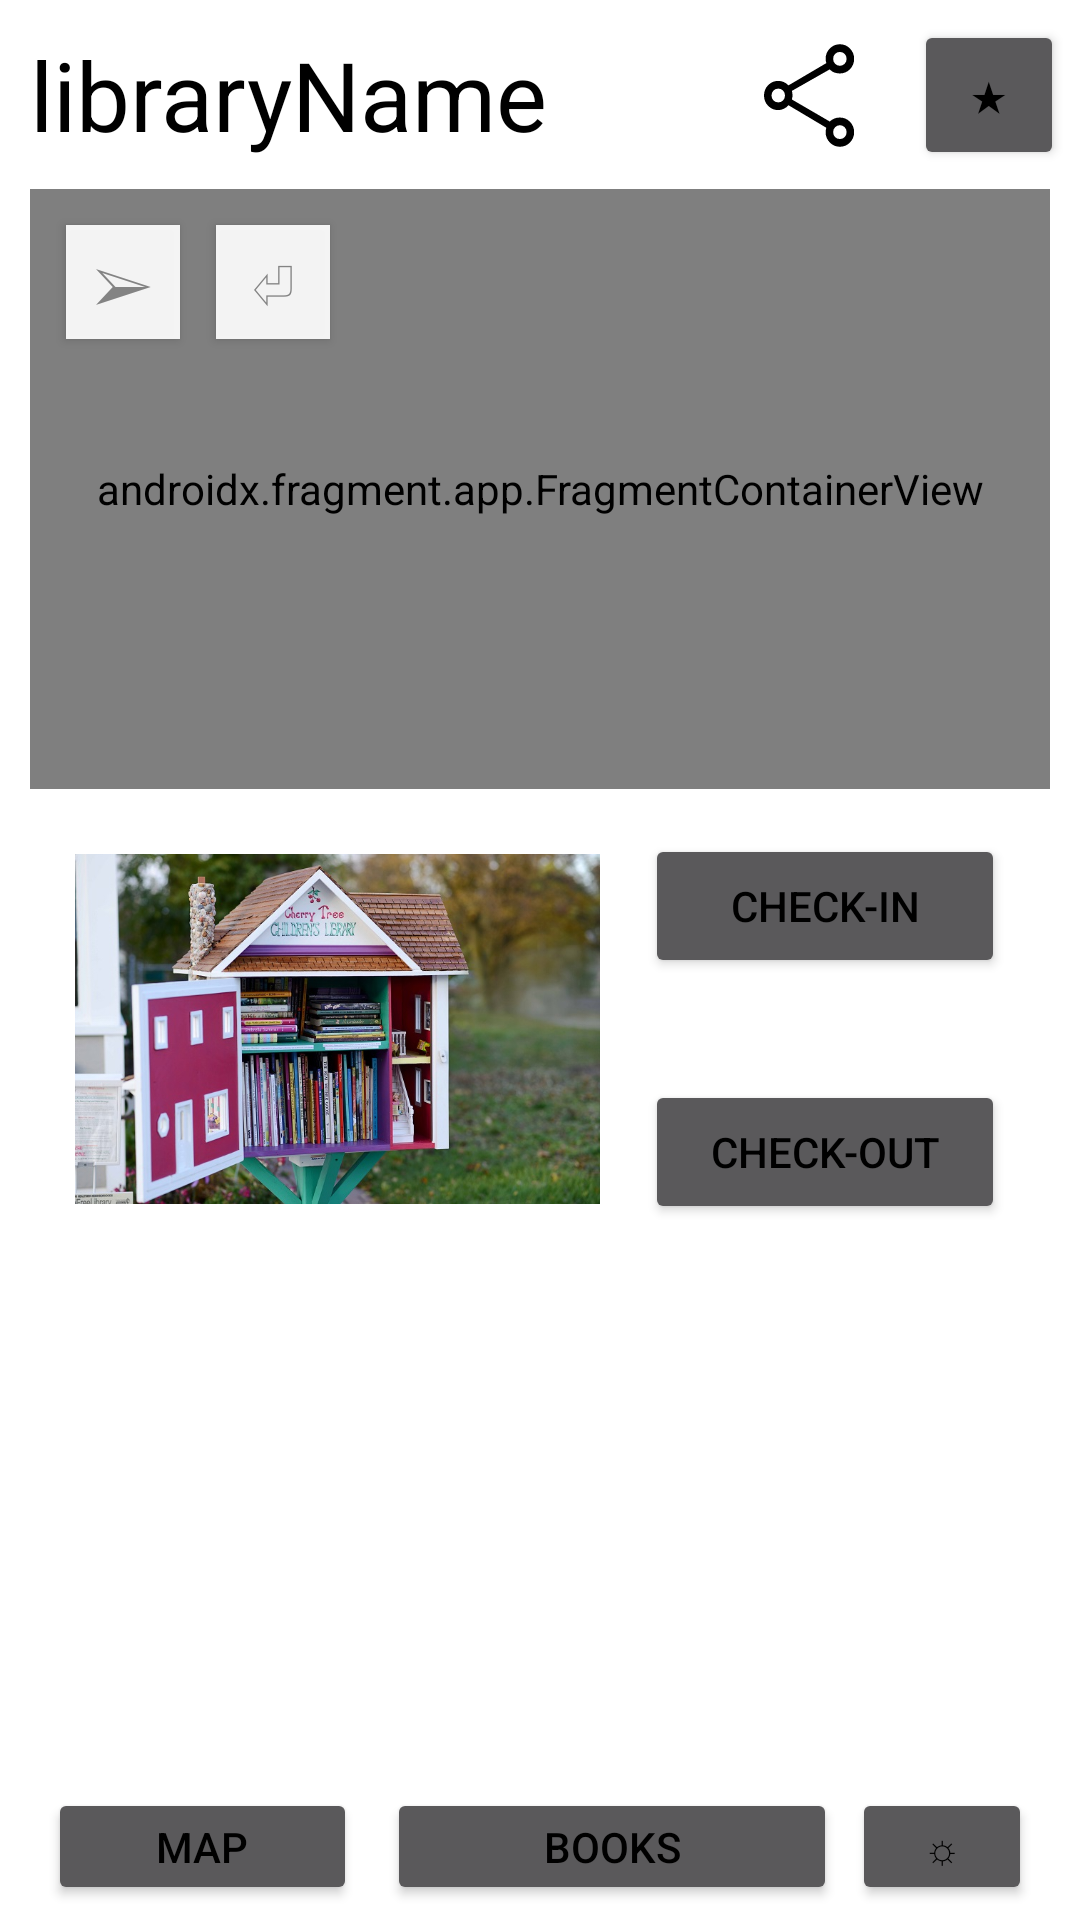

Where to tap for icons on this 1080w x 1920h app screen, as point (x, y):
share: point (809, 95)
